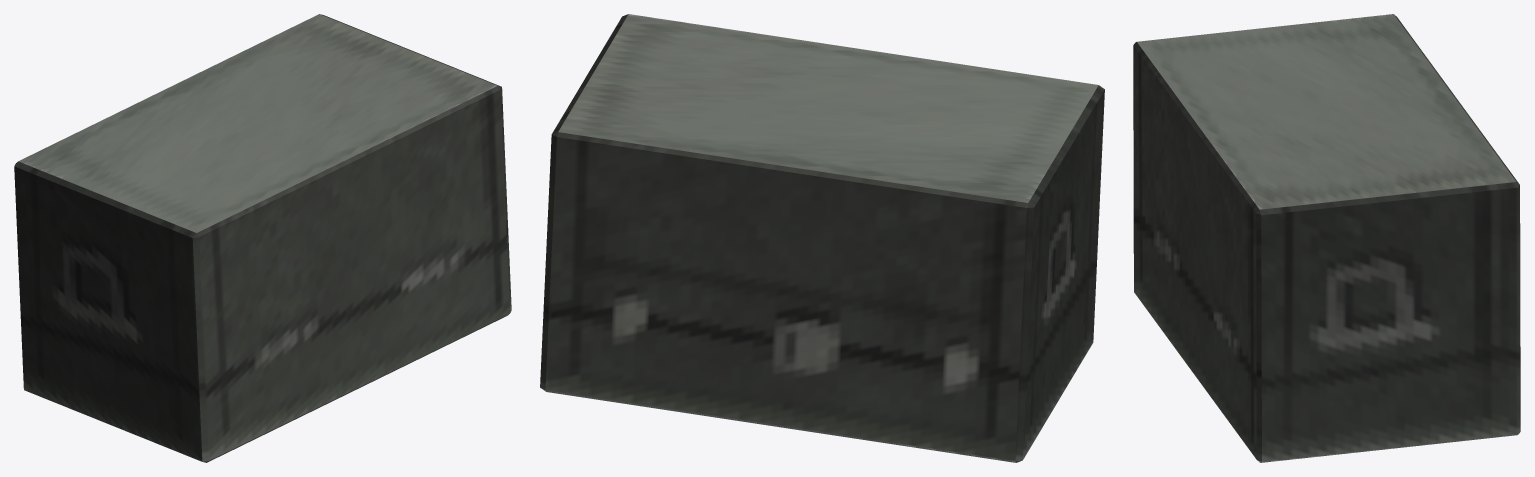
Rendered from PA_Trunk.fbx.
3 views of the same model, side by side, from view 1: azimuth 30°, elevation 25°; view 2: azimuth 150°, elevation 25°; view 3: azimuth 270°, elevation 25° (orthographic). The views are drawn at different scales.
Parts seen in each view (by area): view 1: Cube.001; view 2: Cube.001; view 3: Cube.001.
Part boxes in pixels (x1=…): Cube.001: x1=14, y1=14, x2=511, y2=462; Cube.001: x1=540, y1=14, x2=1104, y2=462; Cube.001: x1=1133, y1=14, x2=1520, y2=462.
Bounding box in the file's own units: 0.5107 × 0.2822 × 0.3683.
